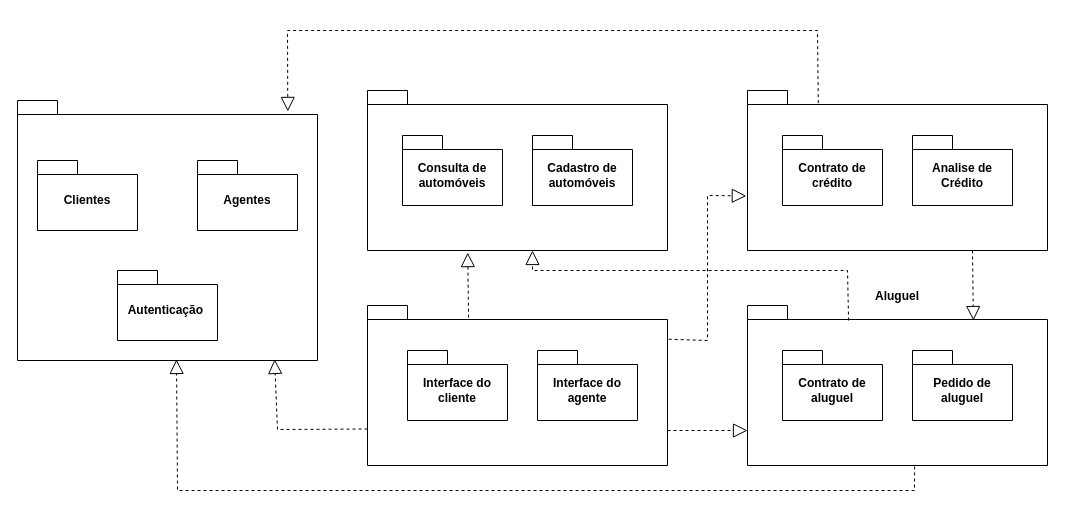
The diagram is 1065 pixels wide and 522 high, and some of its shapes have lost their labels. The shapes that lost their labels are listed below. From the top down, each one's box as (x1, y1, x2, y2) in pixels, then its label:
(366, 90, 668, 250): Veículos
(746, 90, 1048, 250): Financeiro
(16, 100, 318, 360): Usuários
(366, 304, 668, 466): Web
